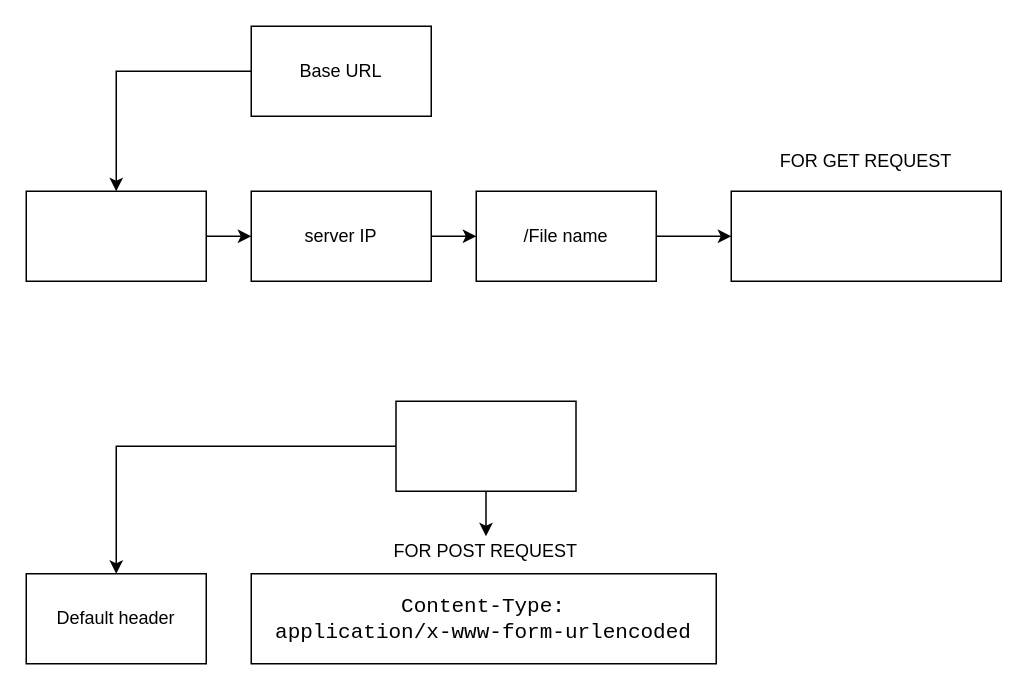
The diagram is 1028 pixels wide and 690 high, and some of its shapes have lost their labels. The centre of each missing label's shape, as x and y in pixels:
"?ID=VALUE&ID=VALUE..." goes at [865,235].
"HTTP parameters" goes at [485,445].
"http://" goes at [115,235].
